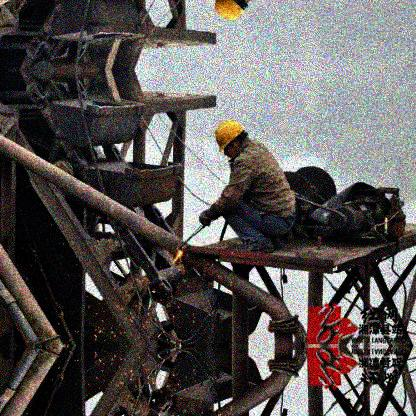helmet: (214, 120, 247, 160)
